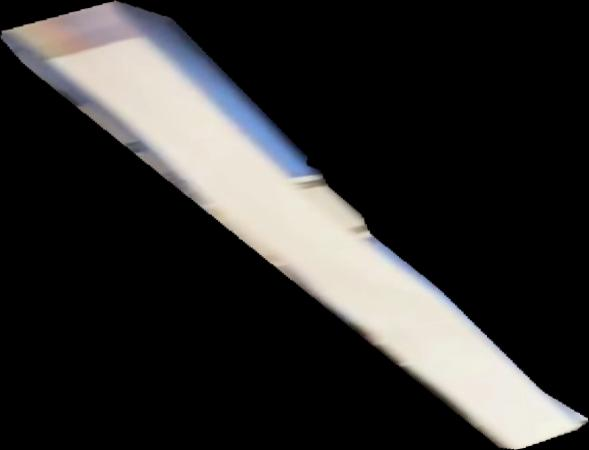backward: (1, 1, 589, 450)
